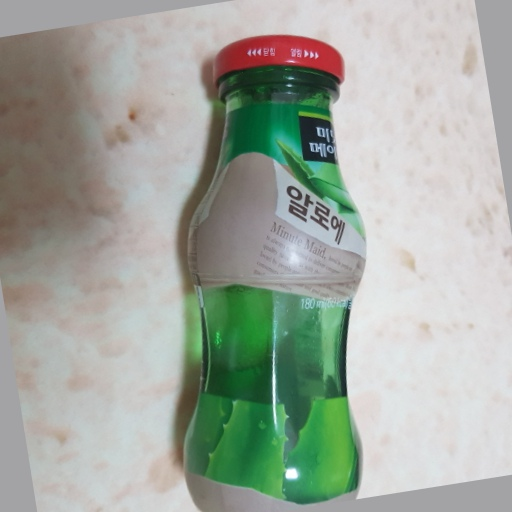Glass_4: (176, 33, 375, 512)
